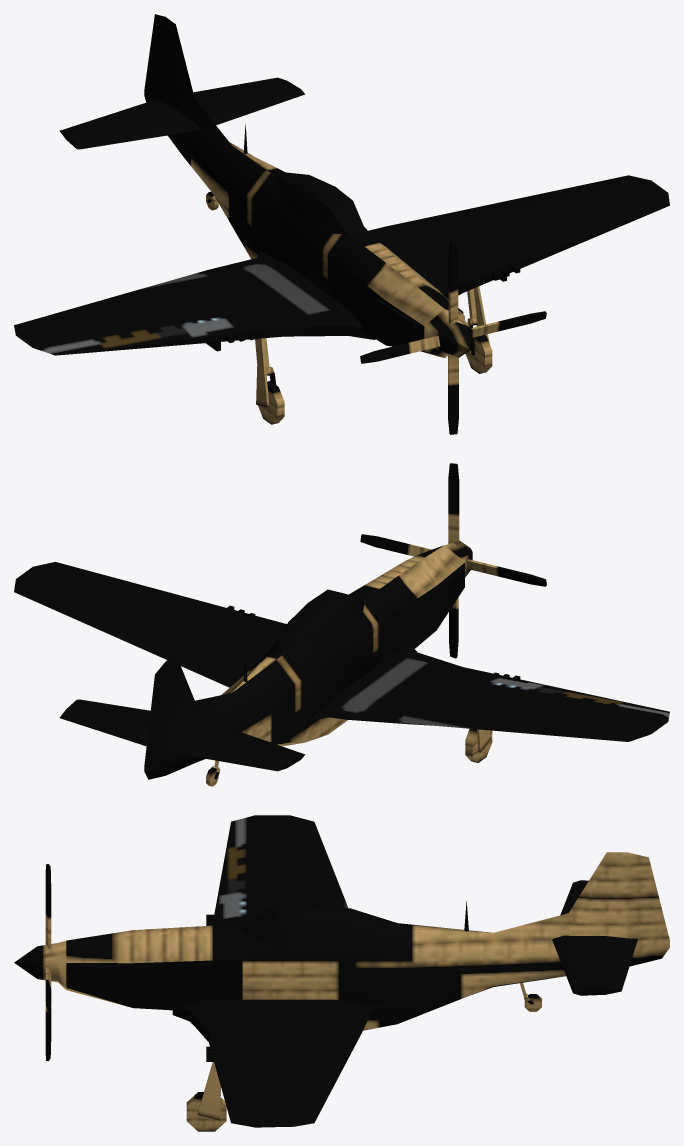
Rendered from jason_plane.obj.
3 views of the same model, one above another, from view 1: azimuth 30°, elevation 25°; view 2: azimuth 150°, elevation 25°; view 3: azimuth 270°, elevation 25° (orthographic).
Visible parts, largest first — view 1: body, blade0, z_glass, lg1, lg0, surface0, surface4, surface1, frame_out, surface2, surface3; view 2: body, blade0, z_glass, surface0, surface1, surface4, surface2, surface3, lg1, frame_out; view 3: body, z_glass, surface0, lg0, surface2, surface3, frame_out, blade0, surface1.
Boxes of the visible parts, left/top/right/bottom form: body: left=14, top=17, right=669, bottom=358; blade0: left=360, top=239, right=546, bottom=434; z_glass: left=278, top=173, right=362, bottom=234; lg1: left=255, top=338, right=284, bottom=424; lg0: left=465, top=286, right=492, bottom=373; surface0: left=144, top=14, right=165, bottom=102; surface4: left=59, top=99, right=172, bottom=138; surface1: left=498, top=175, right=637, bottom=208; frame_out: left=274, top=172, right=365, bottom=234; surface2: left=14, top=295, right=130, bottom=328; surface3: left=193, top=77, right=286, bottom=101; body: left=14, top=540, right=669, bottom=775; blade0: left=360, top=463, right=546, bottom=658; z_glass: left=278, top=589, right=365, bottom=646; surface0: left=144, top=662, right=170, bottom=779; surface1: left=14, top=581, right=130, bottom=638; surface4: left=163, top=736, right=286, bottom=771; surface2: left=498, top=719, right=637, bottom=741; surface3: left=59, top=709, right=148, bottom=746; lg1: left=465, top=728, right=492, bottom=762; frame_out: left=274, top=595, right=360, bottom=652; body: left=14, top=815, right=627, bottom=1127; z_glass: left=242, top=903, right=388, bottom=945; surface0: left=627, top=852, right=669, bottom=966; lg0: left=186, top=1062, right=226, bottom=1131; surface2: left=295, top=818, right=340, bottom=887; surface3: left=605, top=936, right=637, bottom=994; frame_out: left=242, top=905, right=397, bottom=947; blade0: left=45, top=864, right=51, bottom=1061; surface1: left=295, top=1071, right=339, bottom=1122.
Size of the model in its own units: 15.11 by 5.12 by 13.44.
